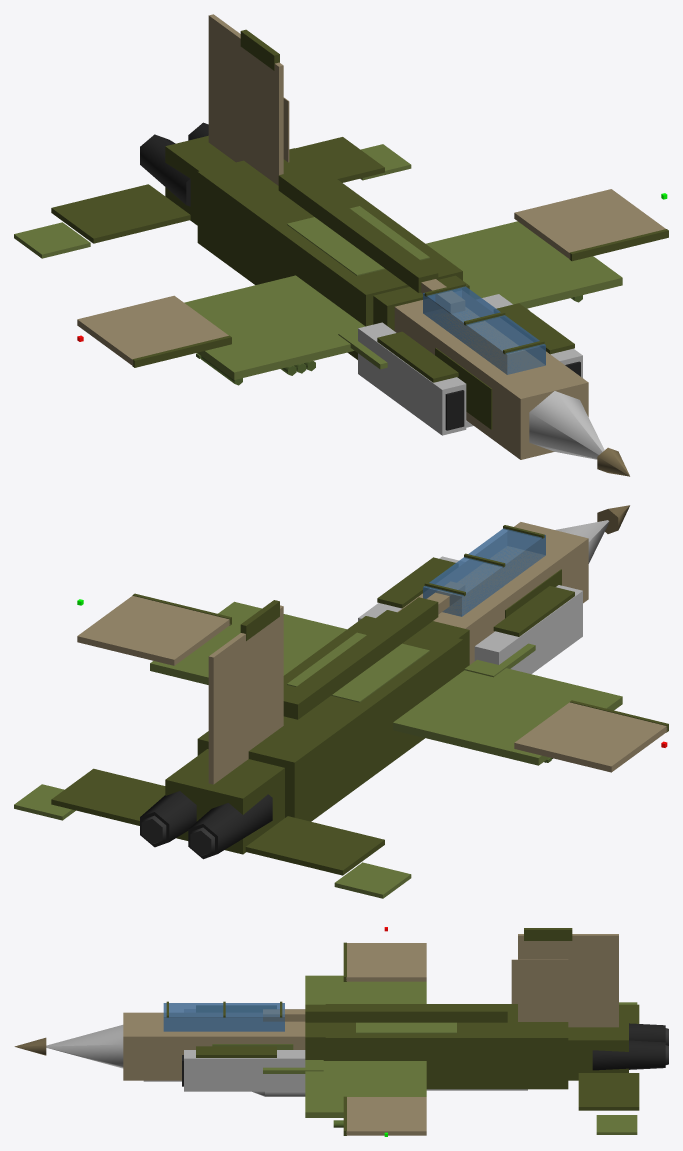
File: f4-phantom.glb
The picture shows the model from 3 angles, top to bottom: view 1: azimuth 30°, elevation 25°; view 2: azimuth 150°, elevation 25°; view 3: azimuth 270°, elevation 25°; orthographic projection. The views are drawn at different scales.
Parts seen in each view (by area): view 1: Mesh_FuselageRear, Mesh_FuselageFront, Mesh_LeftWingRoot, Mesh_RightWingRoot, Mesh_VerticalTail, Mesh_RightWingTip, Mesh_LeftWingTip, Mesh_Canopy, Mesh_Spine, Mesh_LeftStabilizer, Mesh_LeftIntake, Mesh_NoseCone (+16 smaller); view 2: Mesh_FuselageRear, Mesh_LeftWingRoot, Mesh_FuselageFront, Mesh_VerticalTail, Mesh_LeftWingTip, Mesh_RightWingTip, Mesh_TailNarrow, Mesh_Spine, Mesh_Canopy, Mesh_LeftStabilizer, Mesh_RightWingRoot, Mesh_LeftIntake (+12 smaller); view 3: Mesh_FuselageRear, Mesh_FuselageFront, Mesh_VerticalTail, Mesh_RightWingRoot, Mesh_RightIntake, Mesh_Spine, Mesh_Canopy, Mesh_LeftWingTip, Mesh_RightWingTip, Mesh_LeftWingRoot, Mesh_TailNumberPatch, Mesh_TailNarrow (+13 smaller).
Boxes of the visible parts, left/top/right/bottom form: Mesh_FuselageRear: left=197, top=148, right=462, bottom=359; Mesh_FuselageFront: left=394, top=291, right=588, bottom=459; Mesh_LeftWingRoot: left=184, top=275, right=365, bottom=379; Mesh_RightWingRoot: left=426, top=221, right=622, bottom=308; Mesh_VerticalTail: left=208, top=14, right=283, bottom=185; Mesh_RightWingTip: left=514, top=189, right=665, bottom=259; Mesh_LeftWingTip: left=77, top=295, right=228, bottom=365; Mesh_Canopy: left=423, top=286, right=545, bottom=374; Mesh_Spine: left=278, top=170, right=438, bottom=292; Mesh_LeftStabilizer: left=51, top=184, right=190, bottom=243; Mesh_LeftIntake: left=358, top=322, right=466, bottom=435; Mesh_NoseCone: left=529, top=391, right=604, bottom=459; Mesh_FuselageRear: left=197, top=616, right=462, bottom=821; Mesh_LeftWingRoot: left=393, top=668, right=622, bottom=765; Mesh_FuselageFront: left=397, top=522, right=588, bottom=664; Mesh_VerticalTail: left=208, top=605, right=283, bottom=784; Mesh_LeftWingTip: left=514, top=702, right=667, bottom=772; Mesh_RightWingTip: left=77, top=595, right=230, bottom=665; Mesh_TailNarrow: left=165, top=749, right=284, bottom=854; Mesh_Spine: left=283, top=597, right=438, bottom=719; Mesh_Canopy: left=423, top=528, right=545, bottom=616; Mesh_LeftStabilizer: left=245, top=816, right=384, bottom=875; Mesh_RightWingRoot: left=150, top=601, right=346, bottom=684; Mesh_LeftIntake: left=474, top=585, right=582, bottom=674; Mesh_FuselageRear: left=325, top=1004, right=568, bottom=1089; Mesh_FuselageFront: left=123, top=1012, right=305, bottom=1080; Mesh_VerticalTail: left=518, top=934, right=618, bottom=1027; Mesh_RightWingRoot: left=305, top=1061, right=426, bottom=1117; Mesh_RightIntake: left=184, top=1050, right=305, bottom=1091; Mesh_Spine: left=305, top=1004, right=507, bottom=1022; Mesh_Canopy: left=163, top=1003, right=284, bottom=1031; Mesh_LeftWingTip: left=346, top=943, right=426, bottom=981; Mesh_RightWingTip: left=346, top=1097, right=426, bottom=1135; Mesh_LeftWingRoot: left=305, top=975, right=426, bottom=1004; Mesh_TailNumberPatch: left=511, top=959, right=568, bottom=1003; Mesh_TailNarrow: left=568, top=1012, right=628, bottom=1080.
Bounding box in the file's own units: 12.1 × 4.58 × 16.19.
